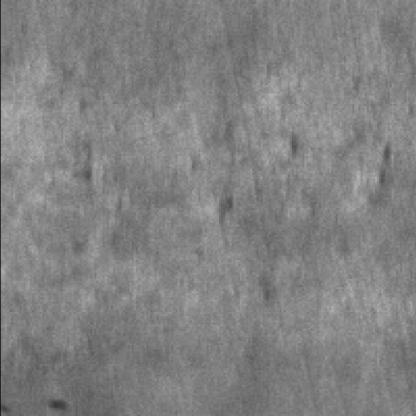rolled-in_scale: (264, 104, 395, 250)
